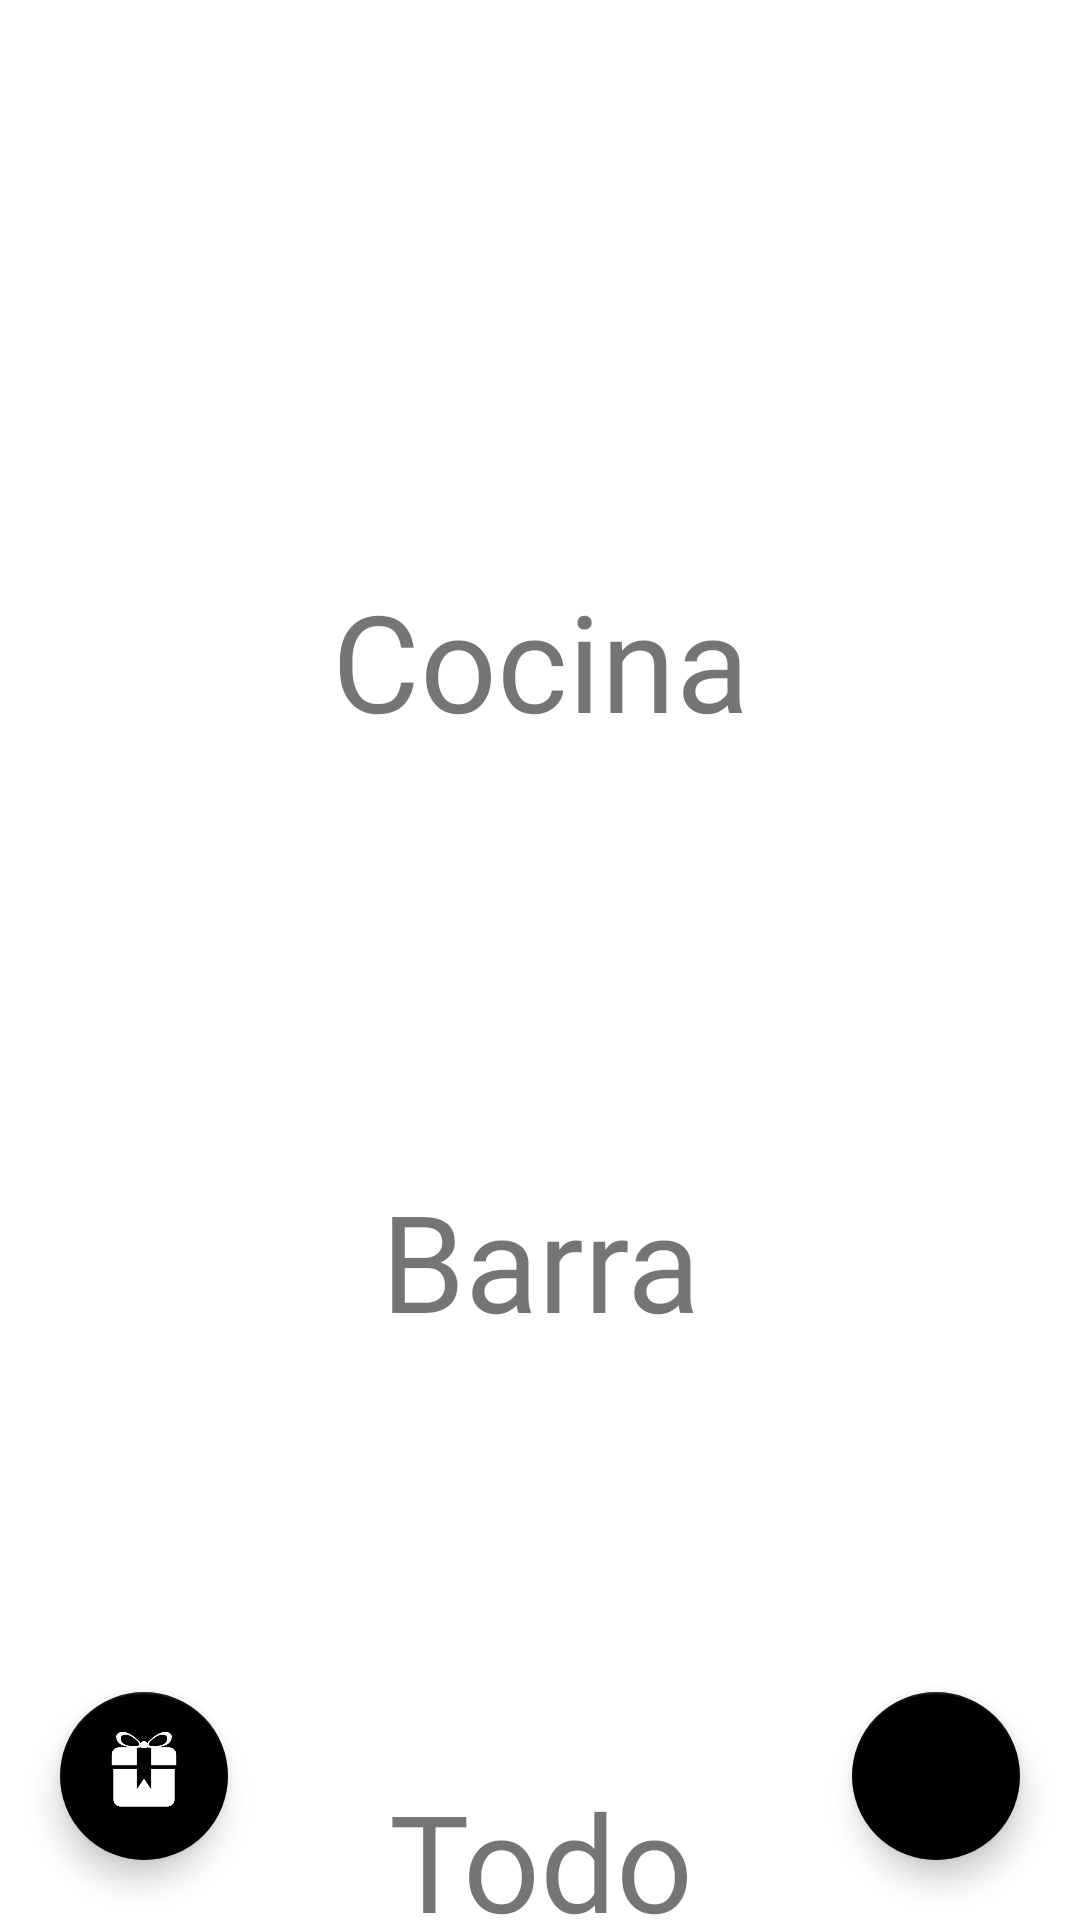

Icon bounding boxes for this 1080 x 1920 phone screenshot, format (x1, y1, x2, y2):
gift: (60, 1692, 228, 1860)
